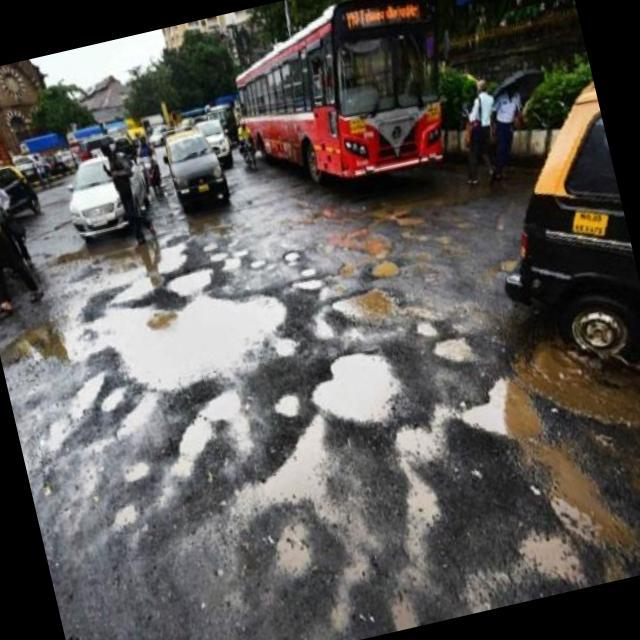Pothole: (96, 266, 294, 400), (496, 289, 640, 452), (300, 340, 422, 440), (156, 374, 262, 484), (440, 356, 554, 458), (238, 427, 340, 510), (267, 506, 325, 586), (326, 215, 394, 267), (154, 261, 217, 302), (31, 406, 78, 456), (426, 329, 478, 374), (61, 365, 108, 412), (106, 494, 144, 540), (300, 307, 340, 350), (382, 196, 426, 234), (116, 448, 156, 488), (268, 384, 306, 422), (366, 253, 404, 285), (409, 312, 443, 344), (94, 384, 130, 414), (289, 270, 326, 298), (397, 220, 433, 248), (203, 244, 231, 266), (496, 250, 518, 278), (248, 252, 270, 274), (281, 246, 303, 266), (434, 228, 452, 252), (316, 203, 336, 223)
